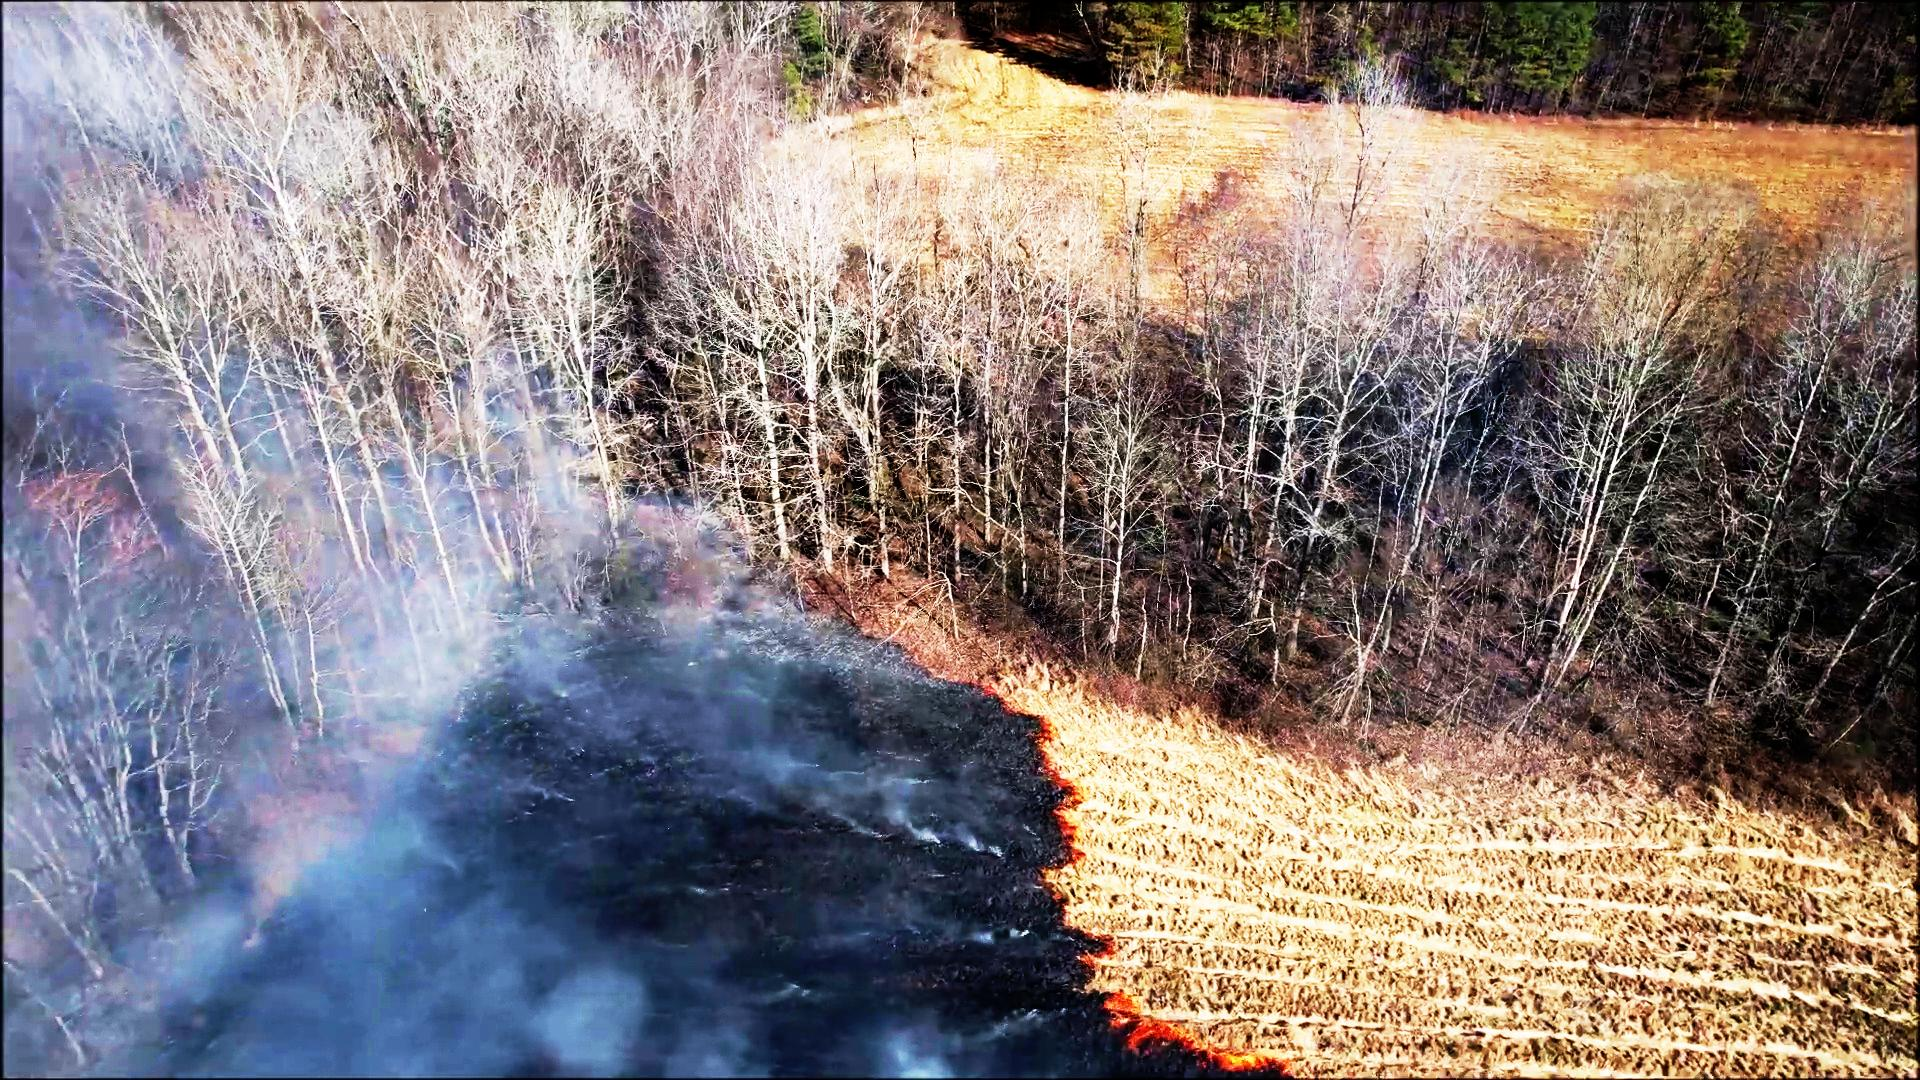smoke: (50, 890, 1040, 1080)
